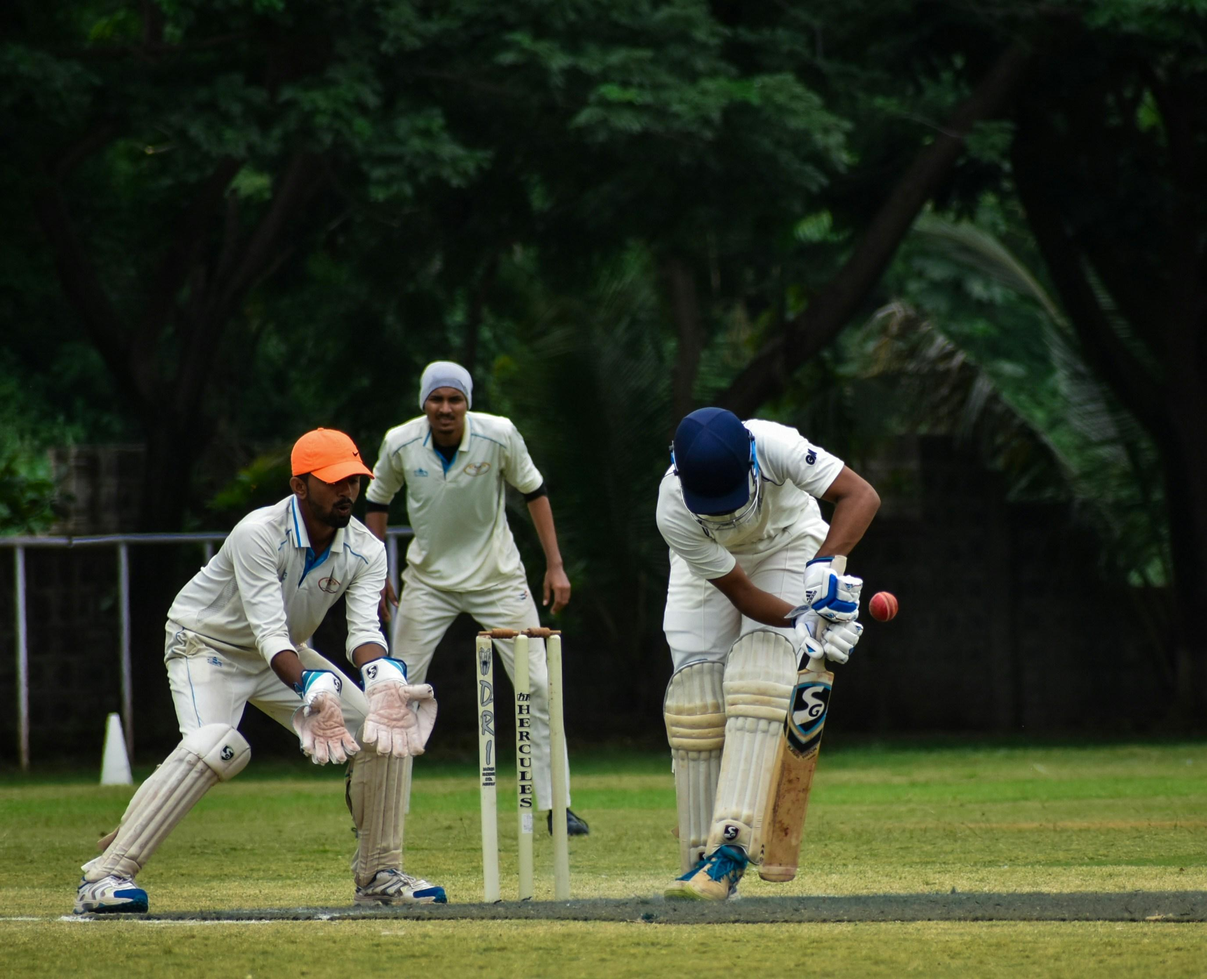batsman: (652, 390, 880, 882)
